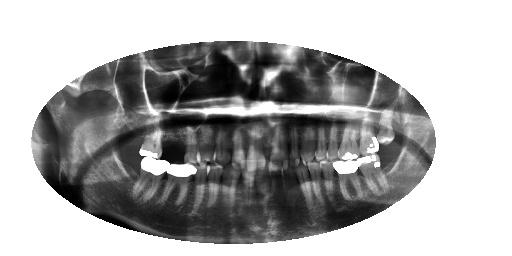i10healthy: (218, 158, 242, 211)
i11decay: (201, 162, 225, 210)
i12healthy: (187, 161, 211, 216)
i13healthy: (155, 163, 198, 216)
i14healthy: (128, 150, 173, 211)
i1healthy: (356, 152, 390, 197)
i2healthy: (330, 155, 367, 203)
i3healthy: (318, 155, 337, 208)
i4healthy: (304, 154, 331, 213)
i5healthy: (293, 159, 315, 215)
i6decay: (278, 158, 298, 212)
i7decay: (265, 157, 282, 209)
i8decay: (252, 157, 270, 207)
i9healthy: (238, 156, 258, 207)
u10healthy: (227, 118, 249, 173)
u11healthy: (213, 113, 233, 172)
u12healthy: (196, 117, 216, 168)
u13healthy: (177, 122, 205, 173)
u14loss: (157, 123, 187, 169)
u15healthy: (136, 123, 165, 163)
u16loss: (118, 119, 144, 158)
u1healthy: (374, 97, 402, 146)
u2healthy: (356, 109, 381, 156)
u3healthy: (336, 119, 360, 163)
u4healthy: (321, 118, 341, 165)
u5healthy: (313, 122, 329, 164)
u6healthy: (297, 118, 317, 168)
u7healthy: (282, 120, 302, 170)
u8healthy: (265, 118, 291, 174)
u9healthy: (242, 118, 269, 175)
